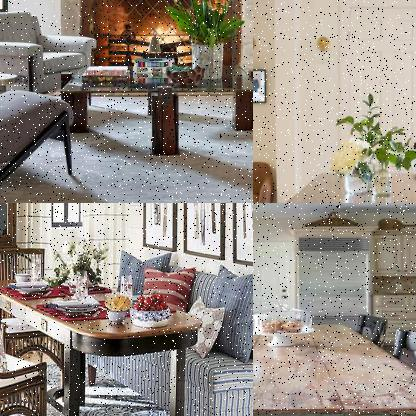table: (0, 262, 218, 415), (59, 64, 252, 159), (253, 317, 415, 415), (0, 63, 27, 151)
